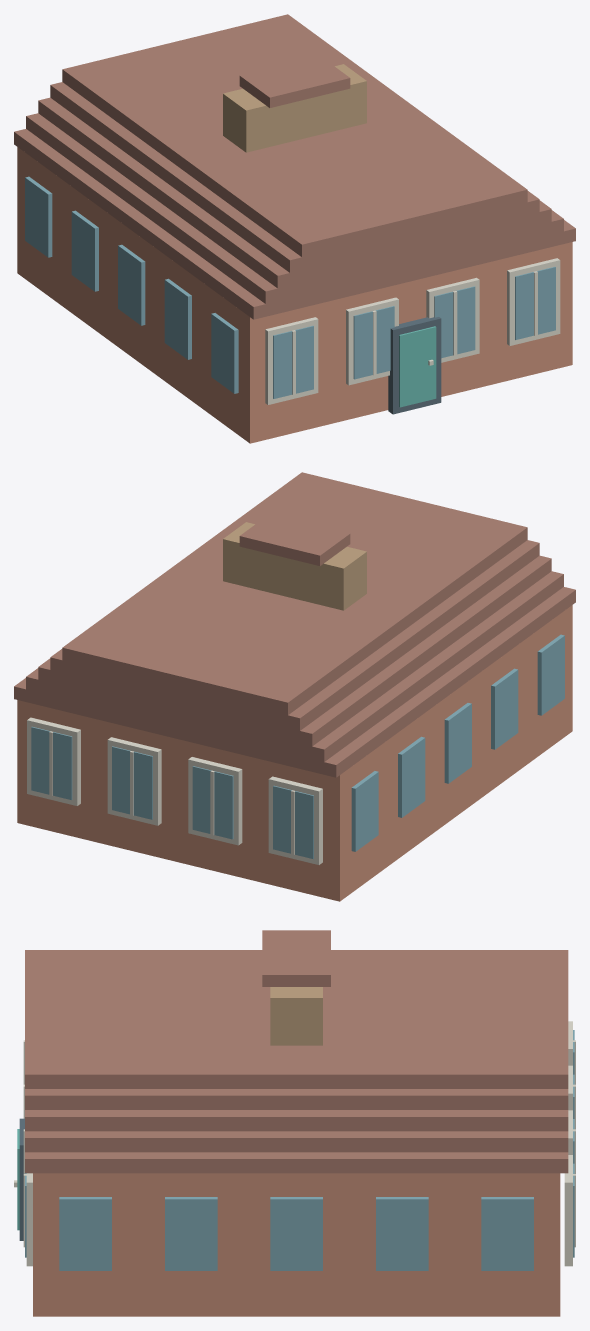
Rendered from voxel-city-districts-community-hall-149bf0b3__24791.glb.
The picture shows the model from 3 angles, top to bottom: view 1: azimuth 30°, elevation 25°; view 2: azimuth 150°, elevation 25°; view 3: azimuth 270°, elevation 25°; orthographic projection. The views are drawn at different scales.
Parts seen in each view (by area): view 1: community-hall-roof, community-hall-brick, community-hall-glass, community-hall-concrete, community-hall-wood, community-hall-accent, community-hall-dark; view 2: community-hall-roof, community-hall-brick, community-hall-glass, community-hall-concrete, community-hall-wood; view 3: community-hall-roof, community-hall-brick, community-hall-glass, community-hall-wood, community-hall-concrete, community-hall-dark.
Boxes of the visible parts, bbox=[...] form: community-hall-roof: bbox=[14, 14, 575, 319]; community-hall-brick: bbox=[17, 147, 572, 443]; community-hall-glass: bbox=[25, 176, 555, 398]; community-hall-concrete: bbox=[265, 258, 560, 404]; community-hall-wood: bbox=[223, 64, 366, 152]; community-hall-accent: bbox=[399, 326, 436, 407]; community-hall-dark: bbox=[388, 317, 441, 414]; community-hall-roof: bbox=[14, 472, 575, 777]; community-hall-brick: bbox=[17, 605, 572, 901]; community-hall-glass: bbox=[31, 634, 564, 859]; community-hall-concrete: bbox=[27, 717, 322, 864]; community-hall-wood: bbox=[223, 522, 366, 610]; community-hall-roof: bbox=[25, 930, 568, 1173]; community-hall-brick: bbox=[33, 1173, 560, 1316]; community-hall-glass: bbox=[25, 1030, 574, 1270]; community-hall-wood: bbox=[270, 987, 322, 1045]; community-hall-concrete: bbox=[14, 1021, 575, 1266]; community-hall-dark: bbox=[19, 1118, 24, 1240].
Size of the model in its own units: 8.2 by 5.75 by 10.66.
